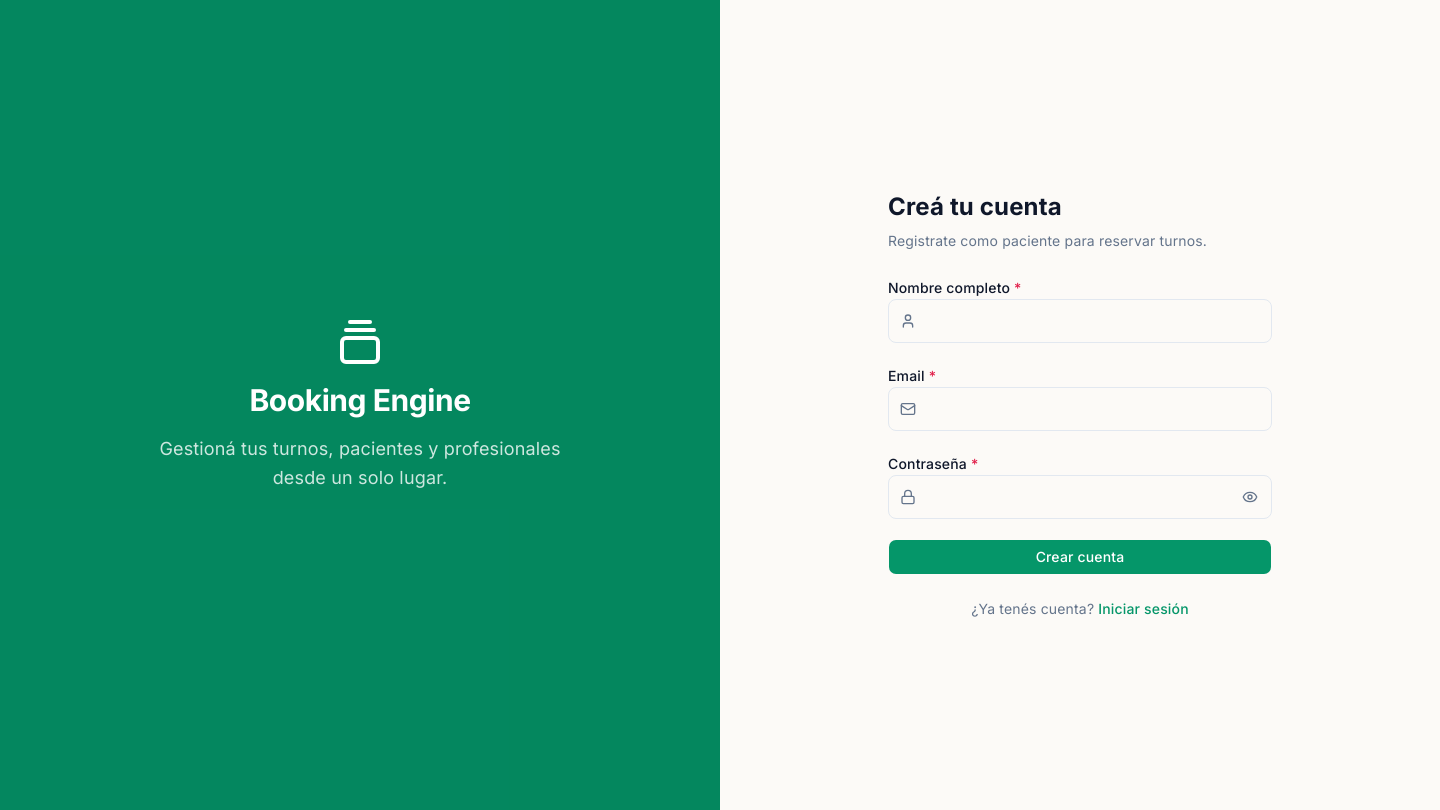
RegisterForm — focus first invalid field on multi-field failure › focuses the name input when all fields are empty on submit
Click the button "Crear cuenta" at (1080, 557), box [888, 539, 1272, 575]
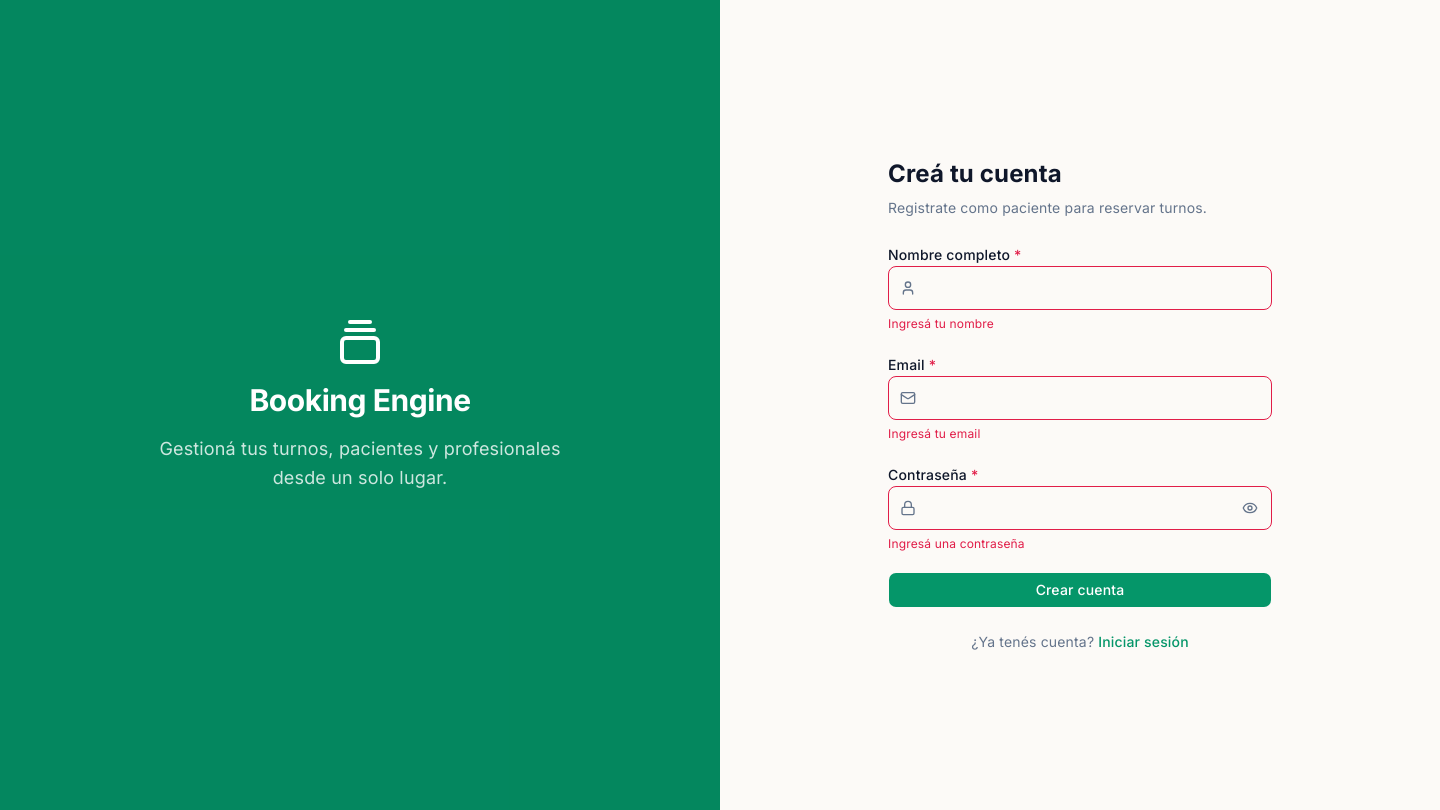
Now the message "Ingresá tu nombre" is shown, box [888, 316, 994, 331]
